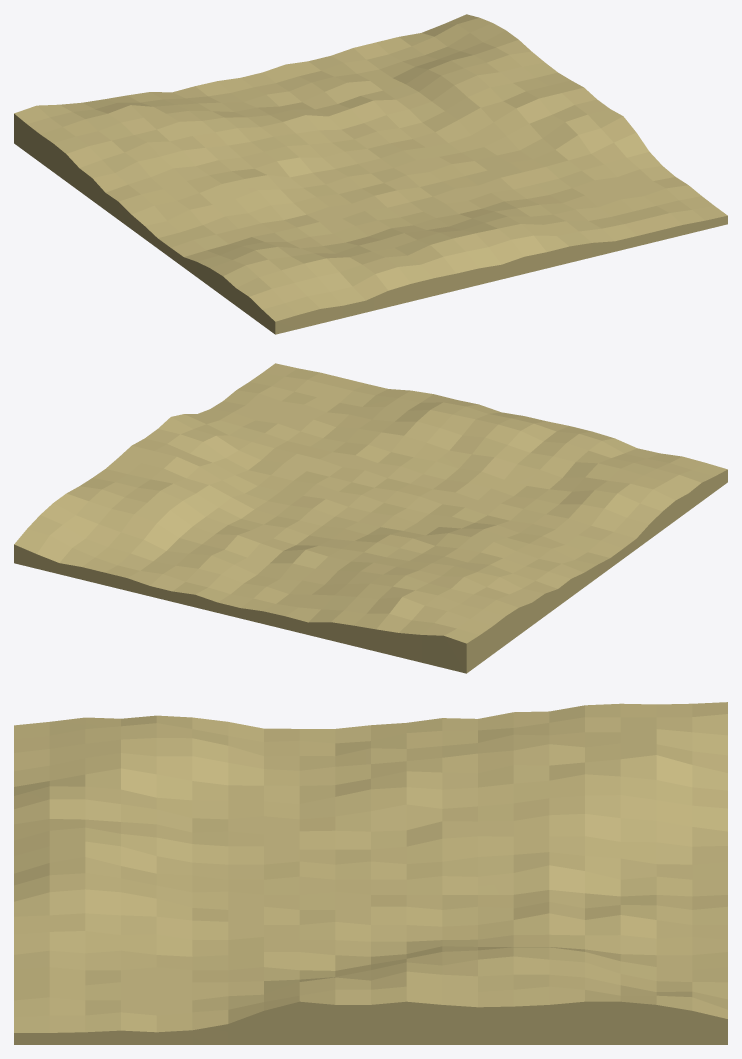
File: ground.glb
3 views of the same model, one above another, from view 1: azimuth 30°, elevation 25°; view 2: azimuth 150°, elevation 25°; view 3: azimuth 270°, elevation 25° (orthographic). The views are drawn at different scales.
Parts seen in each view (by area): view 1: SCENE-BOX.004; view 2: SCENE-BOX.004; view 3: SCENE-BOX.004.
Part boxes in pixels (box(x1,y1,x2,y2)): SCENE-BOX.004: box(14, 14, 727, 334); SCENE-BOX.004: box(14, 363, 727, 673); SCENE-BOX.004: box(14, 702, 727, 1044).
Size of the model in its own units: 5 by 0.3744 by 5.
